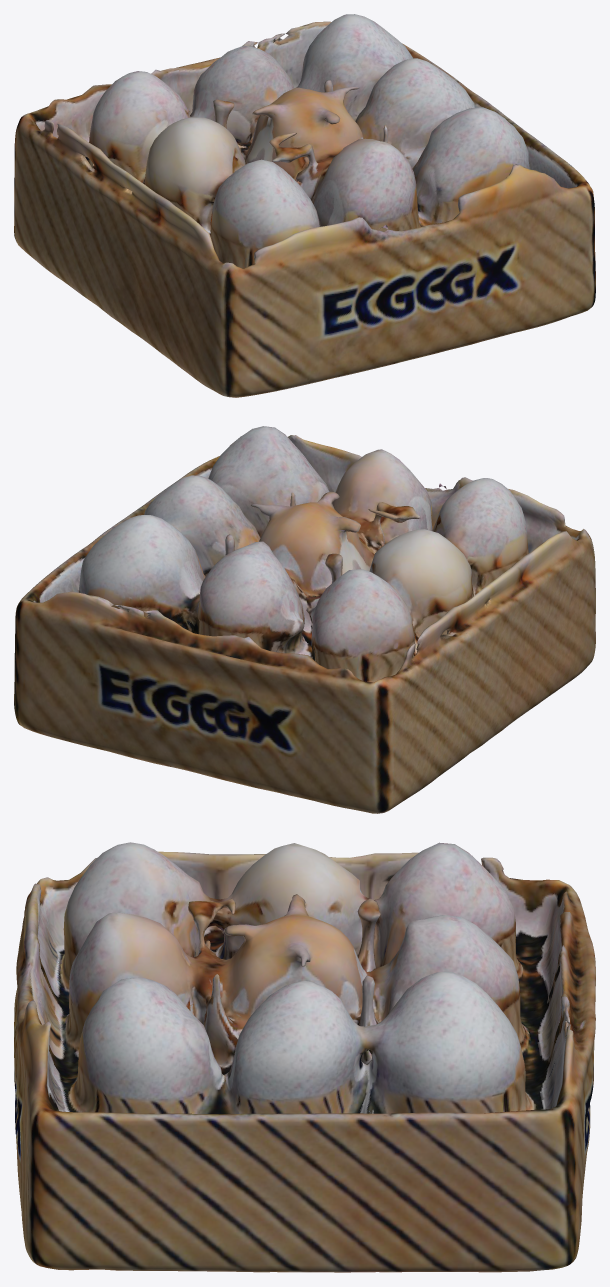
The model's file is Oeuf.fbx.
The picture shows the model from 3 angles, top to bottom: view 1: azimuth 30°, elevation 25°; view 2: azimuth 150°, elevation 25°; view 3: azimuth 270°, elevation 25°; orthographic projection. The views are drawn at different scales.
Visible parts, largest first — view 1: mesh; view 2: mesh; view 3: mesh.
Part boxes in pixels (box(x1,y1,x2,y2)): mesh: box(14, 14, 595, 397); mesh: box(14, 426, 595, 813); mesh: box(14, 842, 595, 1272).
Size of the model in its own units: 96.26 by 46.77 by 99.68.
